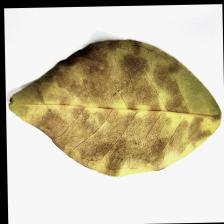canker: (69, 46, 176, 163)
